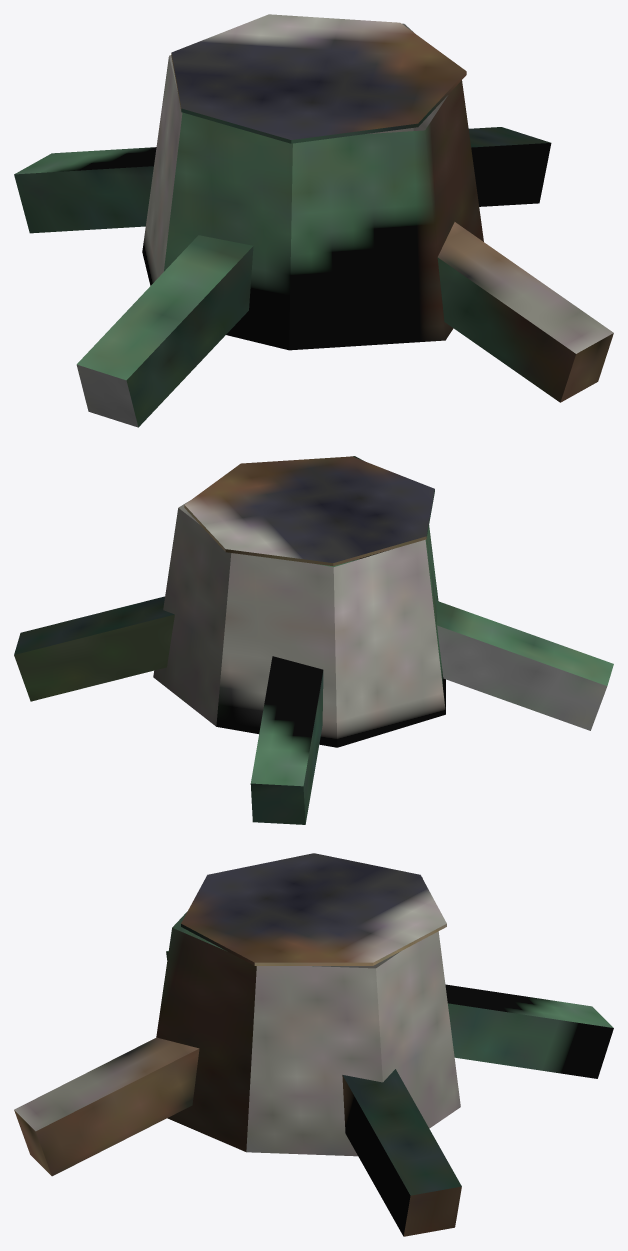
Rendered from SM_Stump.fbx.
3 renders of one model, top to bottom at view 1: azimuth 30°, elevation 25°; view 2: azimuth 150°, elevation 25°; view 3: azimuth 270°, elevation 25°, orthographic. The views are drawn at different scales.
Visible parts, largest first — view 1: SM_Stump; view 2: SM_Stump; view 3: SM_Stump.
Boxes of the visible parts, x1,y1,x2,y2 form: SM_Stump: (14,14,613,427); SM_Stump: (14,456,613,824); SM_Stump: (14,853,613,1236).
Bounding box in the file's own units: 167 × 63.38 × 167.
Materials: 1 (1 with a texture image).
